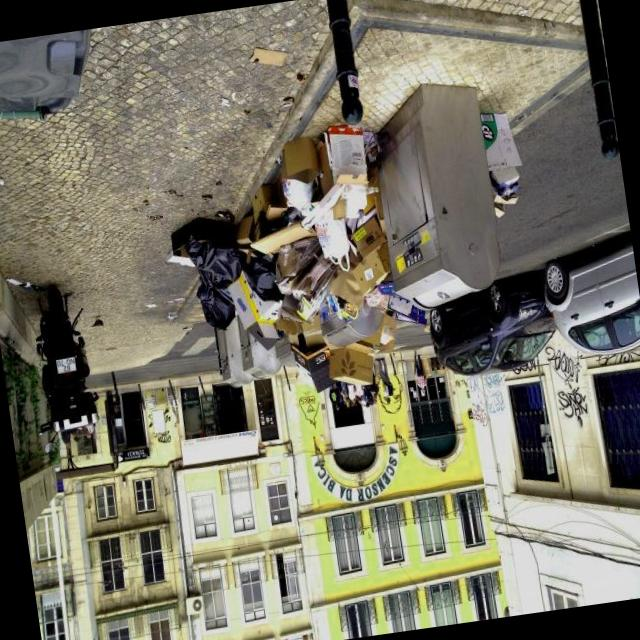high trash: (171, 125, 427, 391)
less trash: (481, 115, 523, 216), (250, 48, 288, 67)
